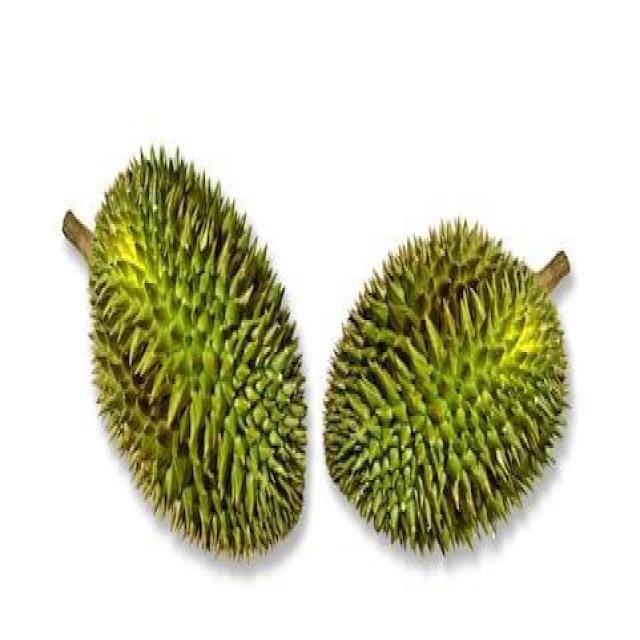immature: (87, 144, 309, 568), (321, 218, 569, 559)
